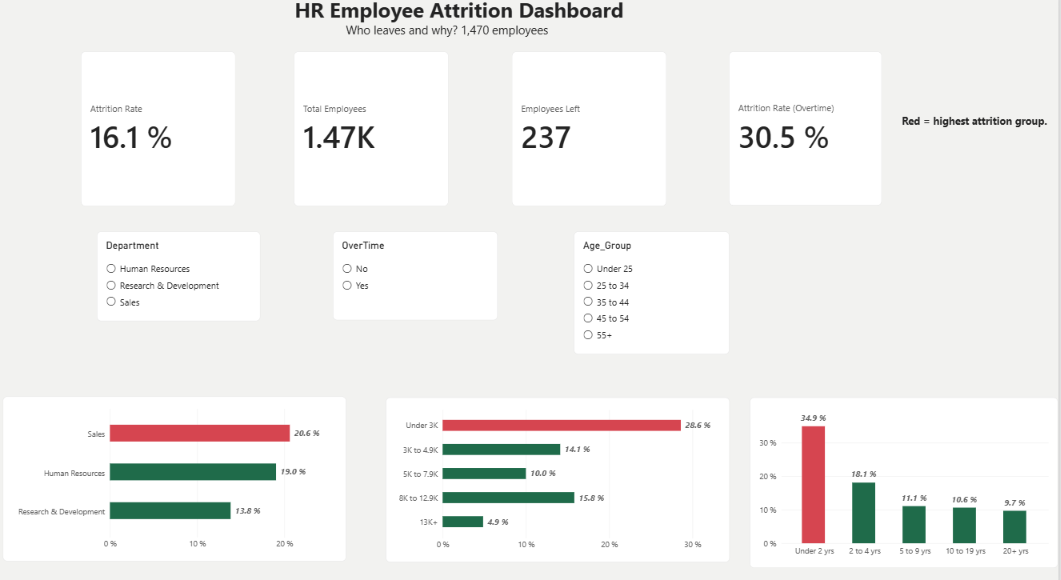

Layout of this report page (visuals, bound fields, positions):
{"tool":"powerbi","page":{"name":"Page ١","canvas":[1920,1080],"ordinal":0},"visuals":[{"type":"cardVisual","fields":{"Data":["tblClean.Attrition Rate"]},"box":[152.3,102.9,280,280],"z":0},{"type":"cardVisual","fields":{"Data":["CountNonNull(tblClean.Attrition)"]},"box":[537.2,102.9,280,280],"z":1000},{"type":"cardVisual","fields":{"Data":["CountNonNull(tblClean.Attrition)"]},"box":[932.4,102.9,280,280],"z":2000},{"type":"clusteredBarChart","fields":{"Category":["tblClean.Department"],"Y":["tblClean.Attrition Rate"]},"box":[10.4,727.4,621.6,298.5],"z":3000},{"type":"clusteredBarChart","fields":{"Category":["tblClean.Income_Group"],"Y":["tblClean.Attrition Rate"]},"box":[704.6,729.5,622,298],"z":4000},{"type":"clusteredColumnChart","fields":{"Category":["tblClean.Tenure_Group"],"Y":["tblClean.Attrition Rate"]},"box":[1363.4,729.5,557.8,308.7],"z":5000},{"type":"listSlicer","fields":{"Values":["tblClean.Department"]},"box":[181.1,428.1,296.4,162.6],"z":6000},{"type":"listSlicer","fields":{"Values":["tblClean.Age_Group"]},"box":[1043.6,428.1,282,222.3],"z":7000},{"type":"listSlicer","fields":{"Values":["tblClean.OverTime"]},"box":[607.2,428.1,298.5,160.5],"z":8000},{"type":"textbox","box":[461.1,2.1,750.3,66.5],"z":9000},{"type":"textbox","box":[631.9,49.4,438.4,35],"z":10000},{"type":"cardVisual","fields":{"Data":["tblClean.Overtime Attrition Rate"]},"box":[1325.6,102.9,277.9,279.9],"z":10001},{"type":"textbox","box":[1638.4,216.1,282,28.8],"z":10002}]}

Visuals, with their boxes in screenshot pixels (x1, y1, x2, y2), scaled from the page's 1920x1080 canvas onto the 1061x580 screenshot:
cardVisual - tblClean.Attrition Rate: (84,55,239,206)
cardVisual - CountNonNull(tblClean.Attrition): (297,55,452,206)
cardVisual - CountNonNull(tblClean.Attrition): (515,55,670,206)
clusteredBarChart - tblClean.Department x tblClean.Attrition Rate: (6,391,349,551)
clusteredBarChart - tblClean.Income_Group x tblClean.Attrition Rate: (389,392,733,552)
clusteredColumnChart - tblClean.Tenure_Group x tblClean.Attrition Rate: (753,392,1060,558)
listSlicer - tblClean.Department: (100,230,264,317)
listSlicer - tblClean.Age_Group: (577,230,733,349)
listSlicer - tblClean.OverTime: (336,230,500,316)
textbox: (255,1,669,37)
textbox: (349,27,591,45)
cardVisual - tblClean.Overtime Attrition Rate: (733,55,886,206)
textbox: (905,116,1060,132)
